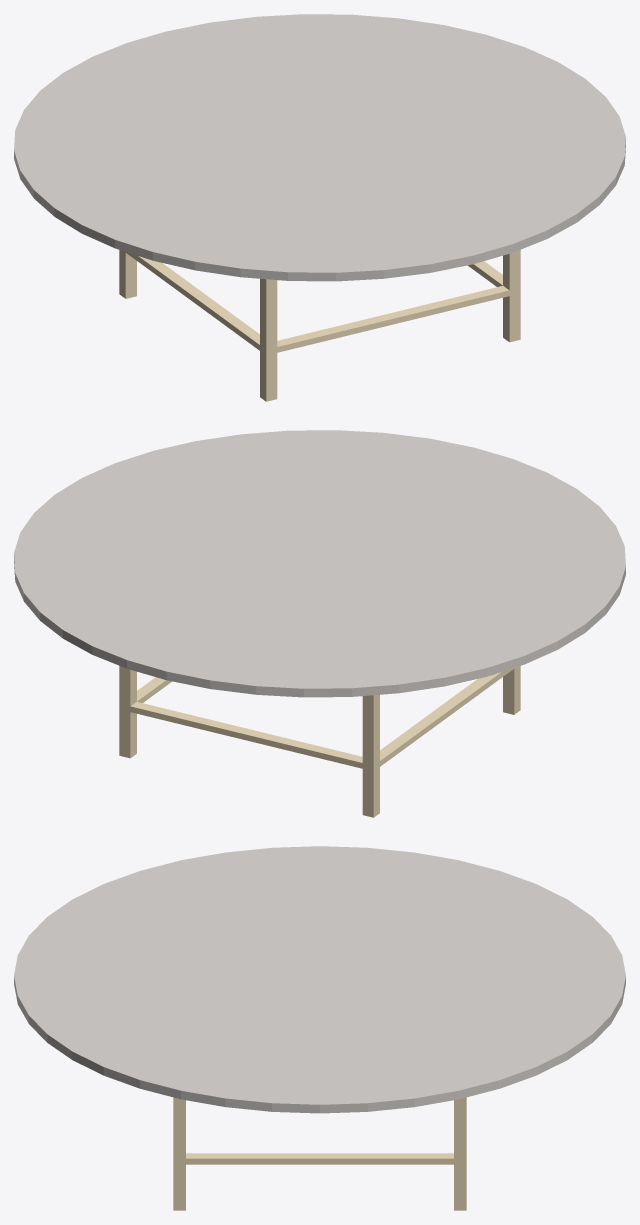
The model's file is TableRound.fbx.
The picture shows the model from 3 angles, top to bottom: view 1: azimuth 30°, elevation 25°; view 2: azimuth 150°, elevation 25°; view 3: azimuth 270°, elevation 25°; orthographic projection.
Parts seen in each view (by area): view 1: TableRound; view 2: TableRound; view 3: TableRound.
Boxes of the visible parts, x1,y1,x2,y2 form: TableRound: (14, 14, 625, 401); TableRound: (14, 430, 625, 817); TableRound: (14, 846, 625, 1210).
Size of the model in its own units: 244 by 76.2 by 244.
